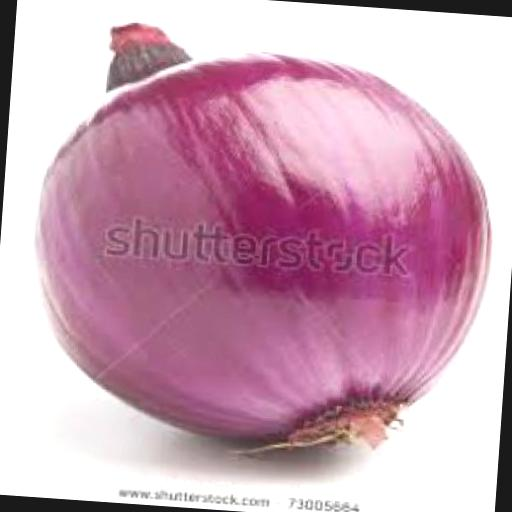biodegradable: (18, 16, 503, 466)
